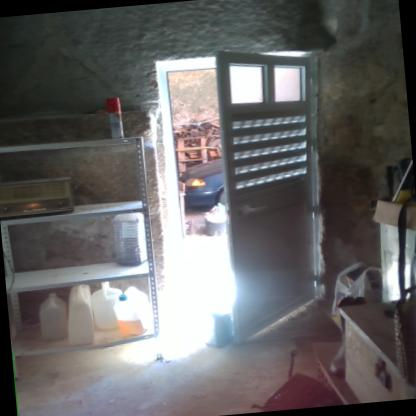semi: (139, 38, 342, 354)
